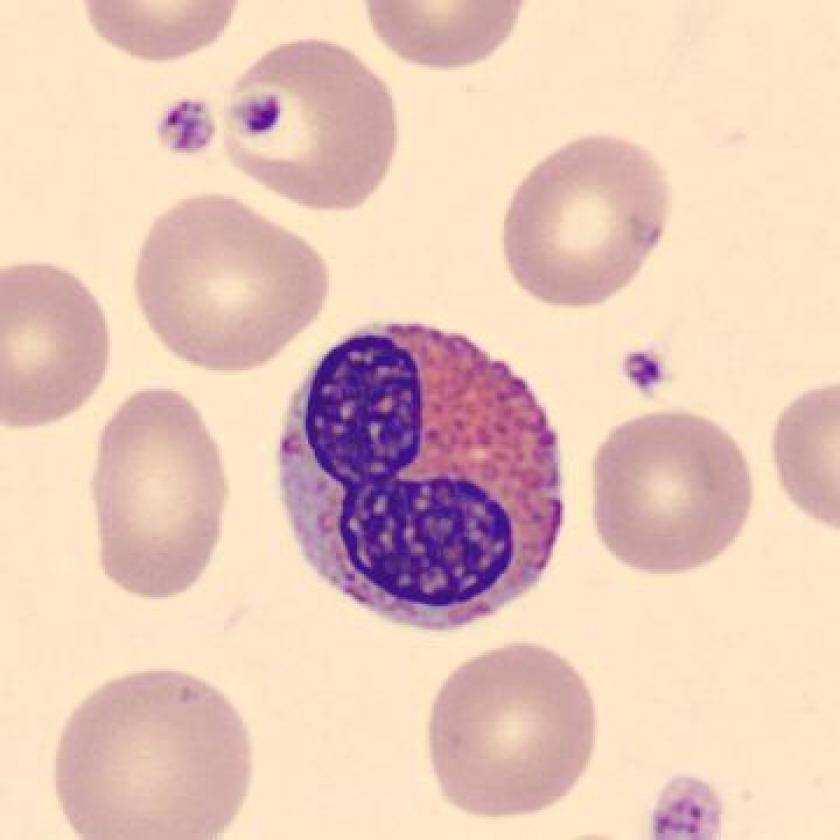eosinophil: (260, 309, 573, 644)
